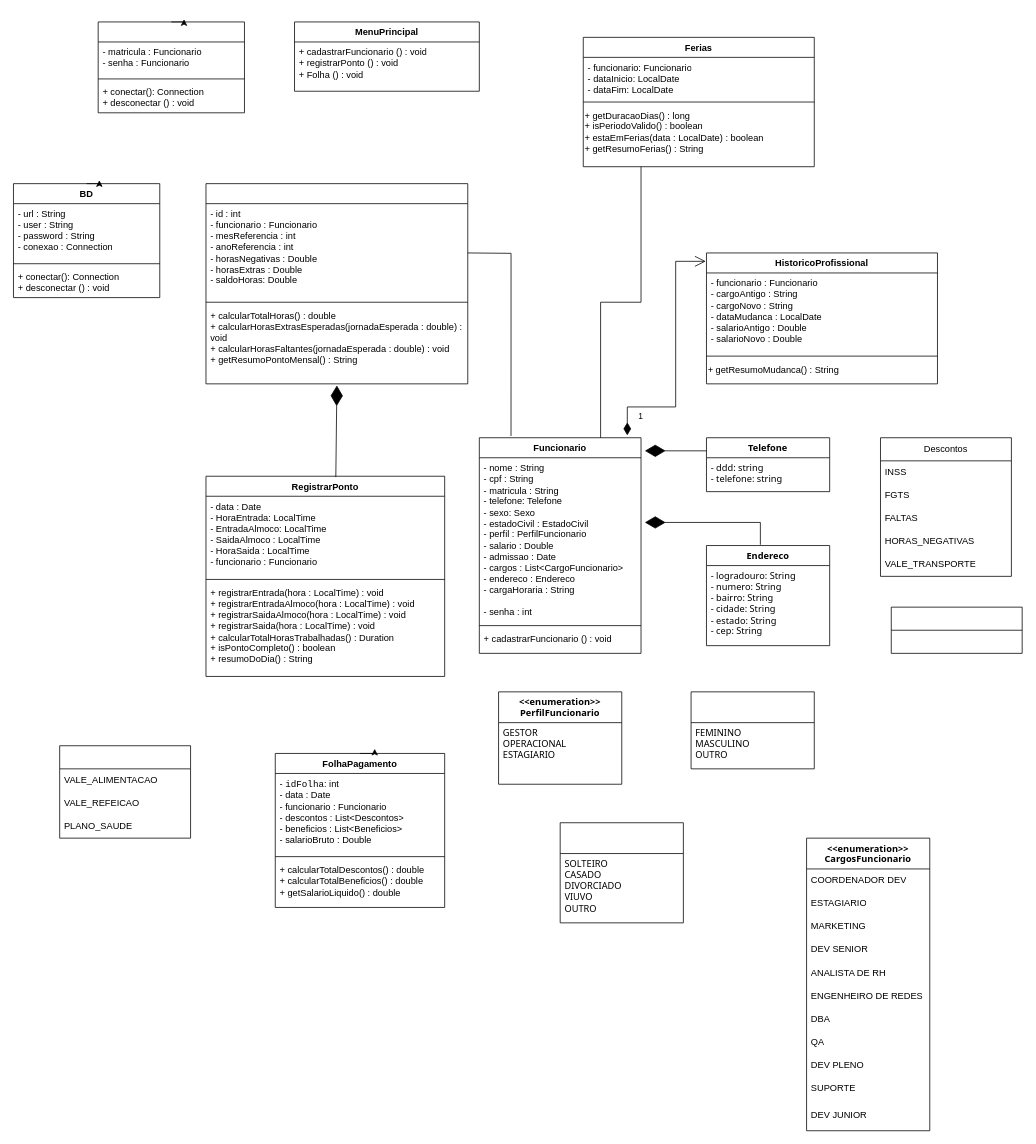
This 1036x1144 diagram has some shape labels left out. The box of each missing label's shape, as (x1, y1, x2, y2) in pixels:
<<enumeration>> EstadoCivil: (559, 822, 683, 923)
<<enumeration>> Sexo: (690, 691, 814, 769)
Beneficios: (59, 745, 191, 838)
CargoFuncionario: (891, 606, 1022, 653)
FolhaPonto: (205, 183, 468, 384)
Login: (97, 21, 244, 113)
